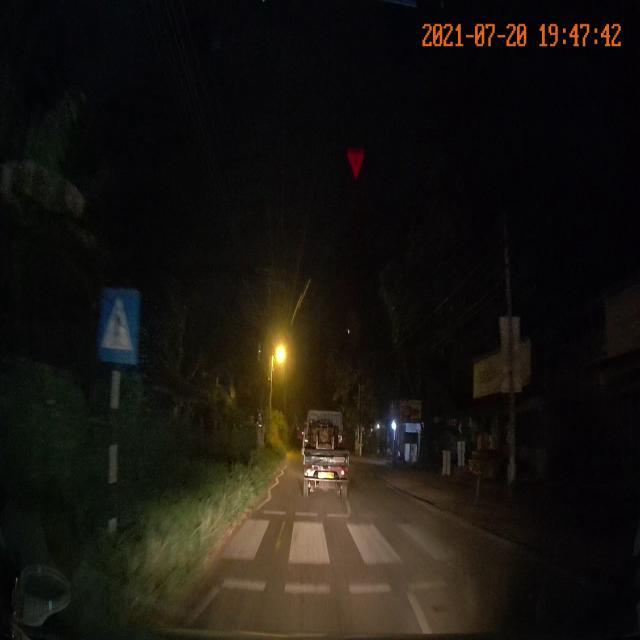Crosswalk: (193, 506, 561, 593)
